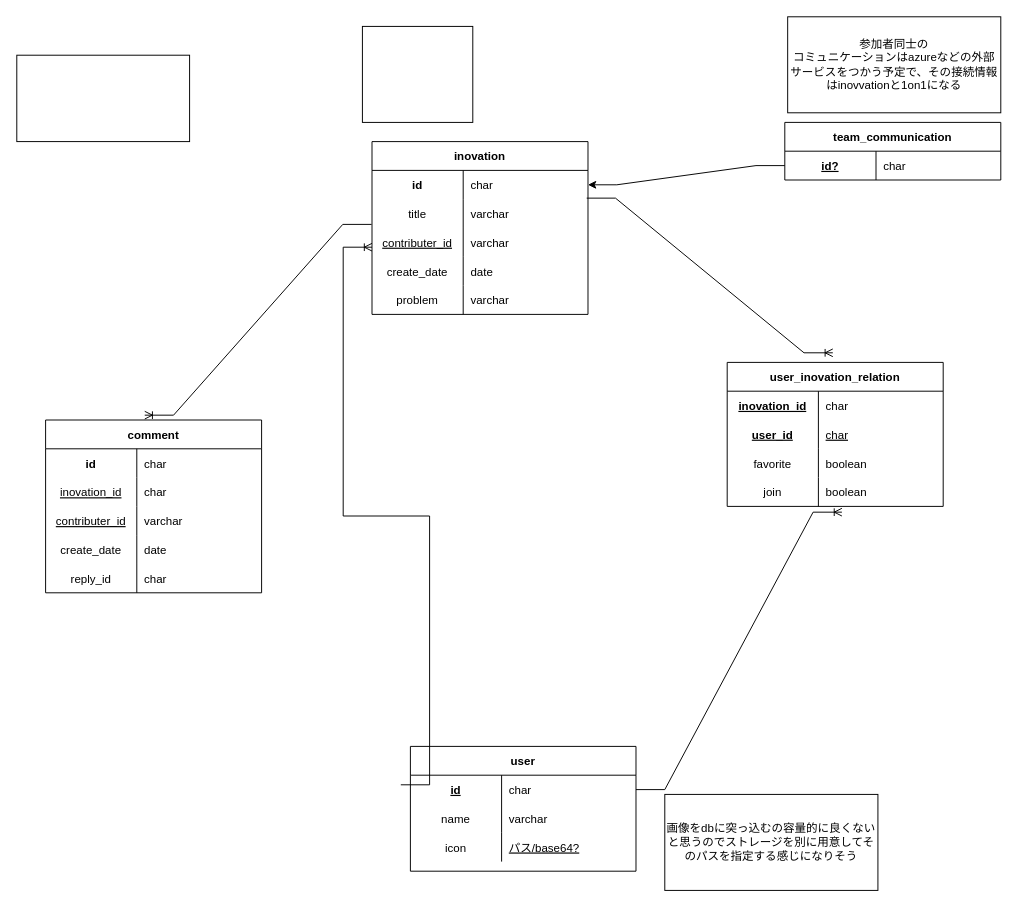
Image size: 1018x907. Some labels were removed from this diagram. The centre of each missing label's shape, as x and y in pixels:
"どんな情報のせるかが未定。 困りごと 必要なスキルなど" belongs at point (417, 73).
"表記 主キーは太字 外部キーは下線 idはdbの採番機能とかがあったらつかう感じ" belongs at point (103, 98).
